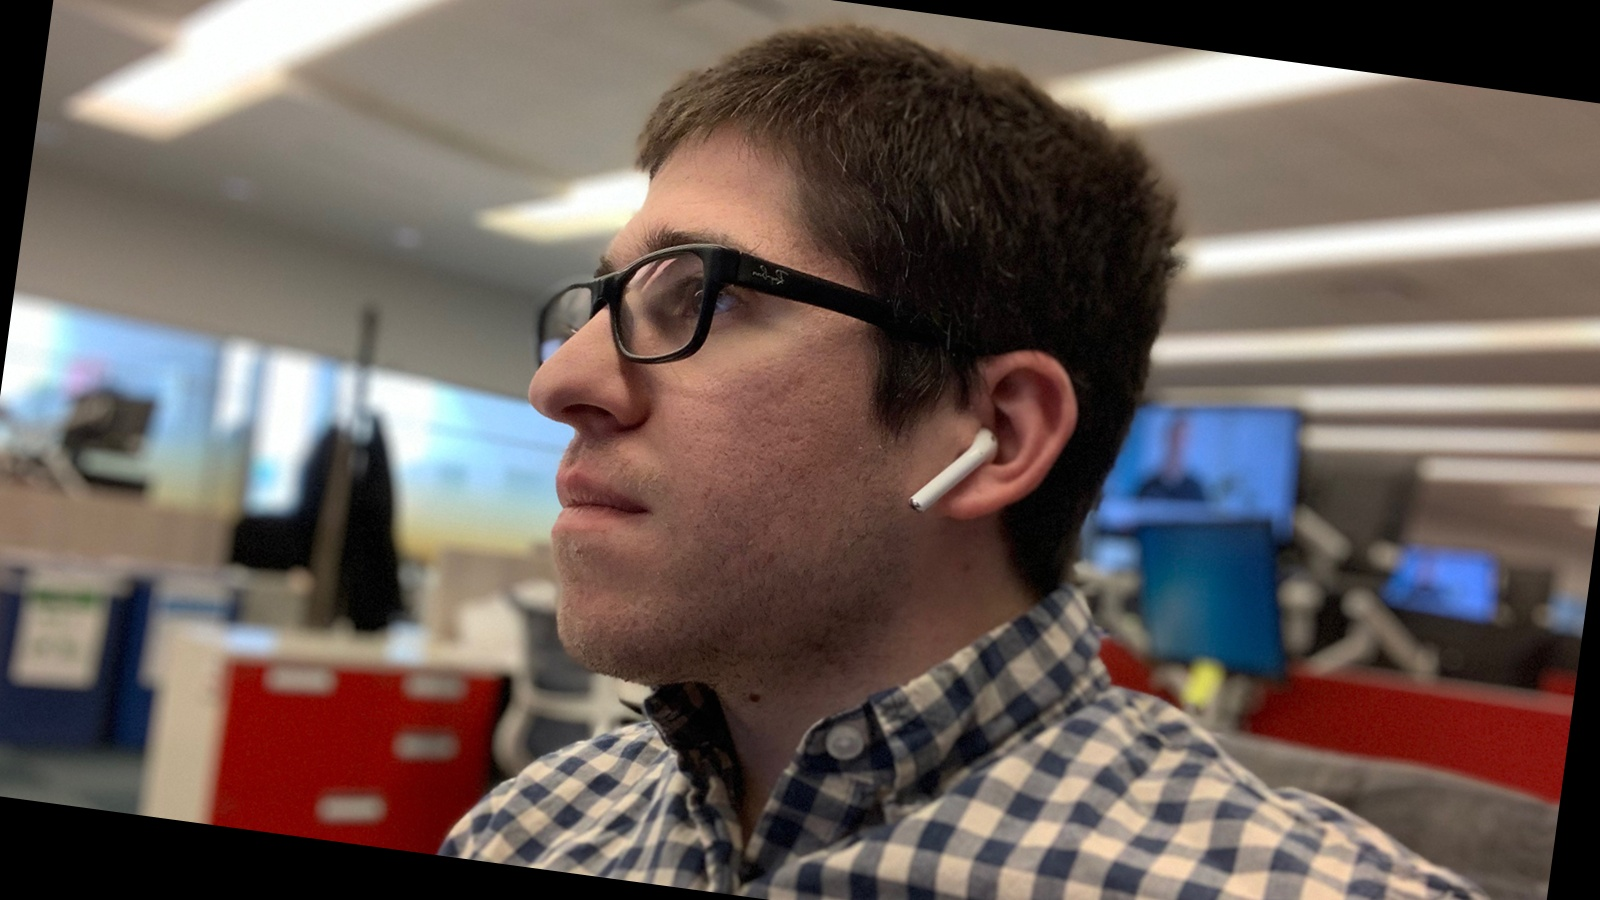earphone: (908, 336, 1086, 536)
